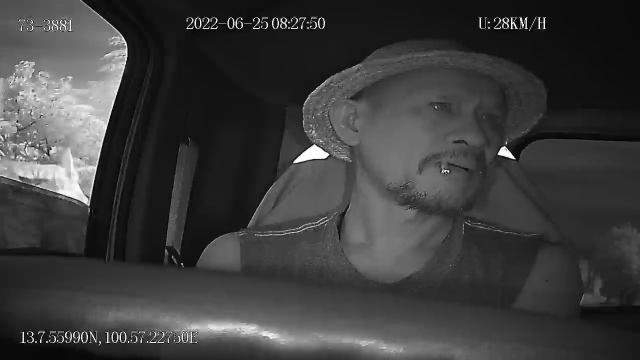SafeDriving: (418, 88, 458, 119)
Smoking: (436, 158, 452, 178)
